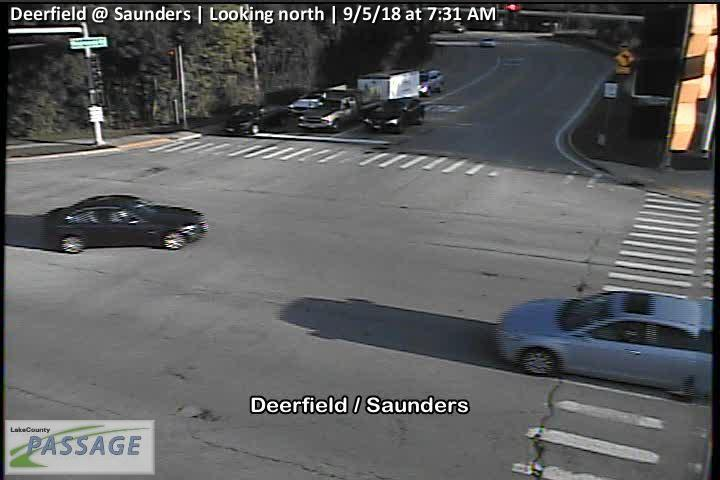Sedan: (494, 291, 715, 400), (47, 194, 210, 253), (361, 95, 423, 132)
Truck: (294, 68, 420, 134)
